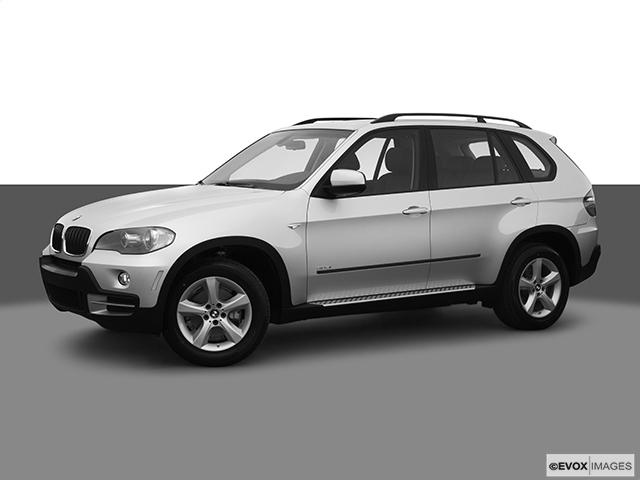car: (42, 111, 603, 367)
